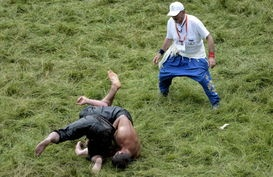falling: (29, 63, 151, 172)
